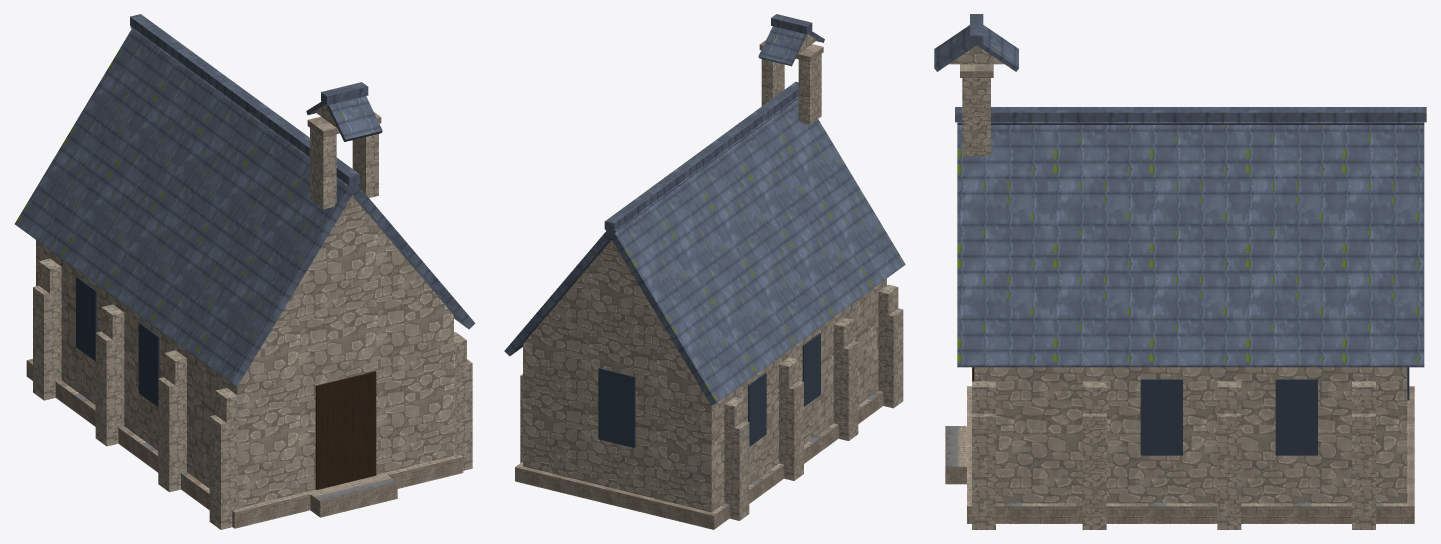
File: chapel.glb
The picture shows the model from 3 angles, left to right: view 1: azimuth 30°, elevation 25°; view 2: azimuth 150°, elevation 25°; view 3: azimuth 270°, elevation 25°; orthographic projection. The views are drawn at different scales.
Visible parts, largest first — view 1: chapel; view 2: chapel; view 3: chapel.
Part boxes in pixels (x1,y1,x2,y2): chapel: [15, 14, 475, 529]; chapel: [504, 14, 905, 529]; chapel: [934, 14, 1426, 529].
Bounding box in the file's own units: 6.5 × 10.07 × 10.23.
Materials: 5 (4 with a texture image).
